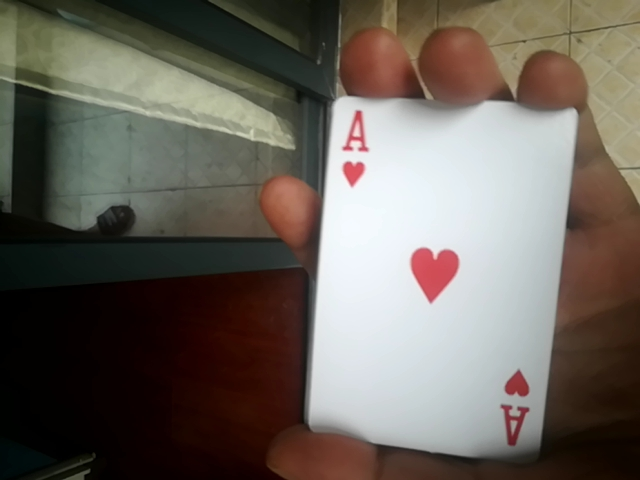hx a: (320, 86, 573, 463)
